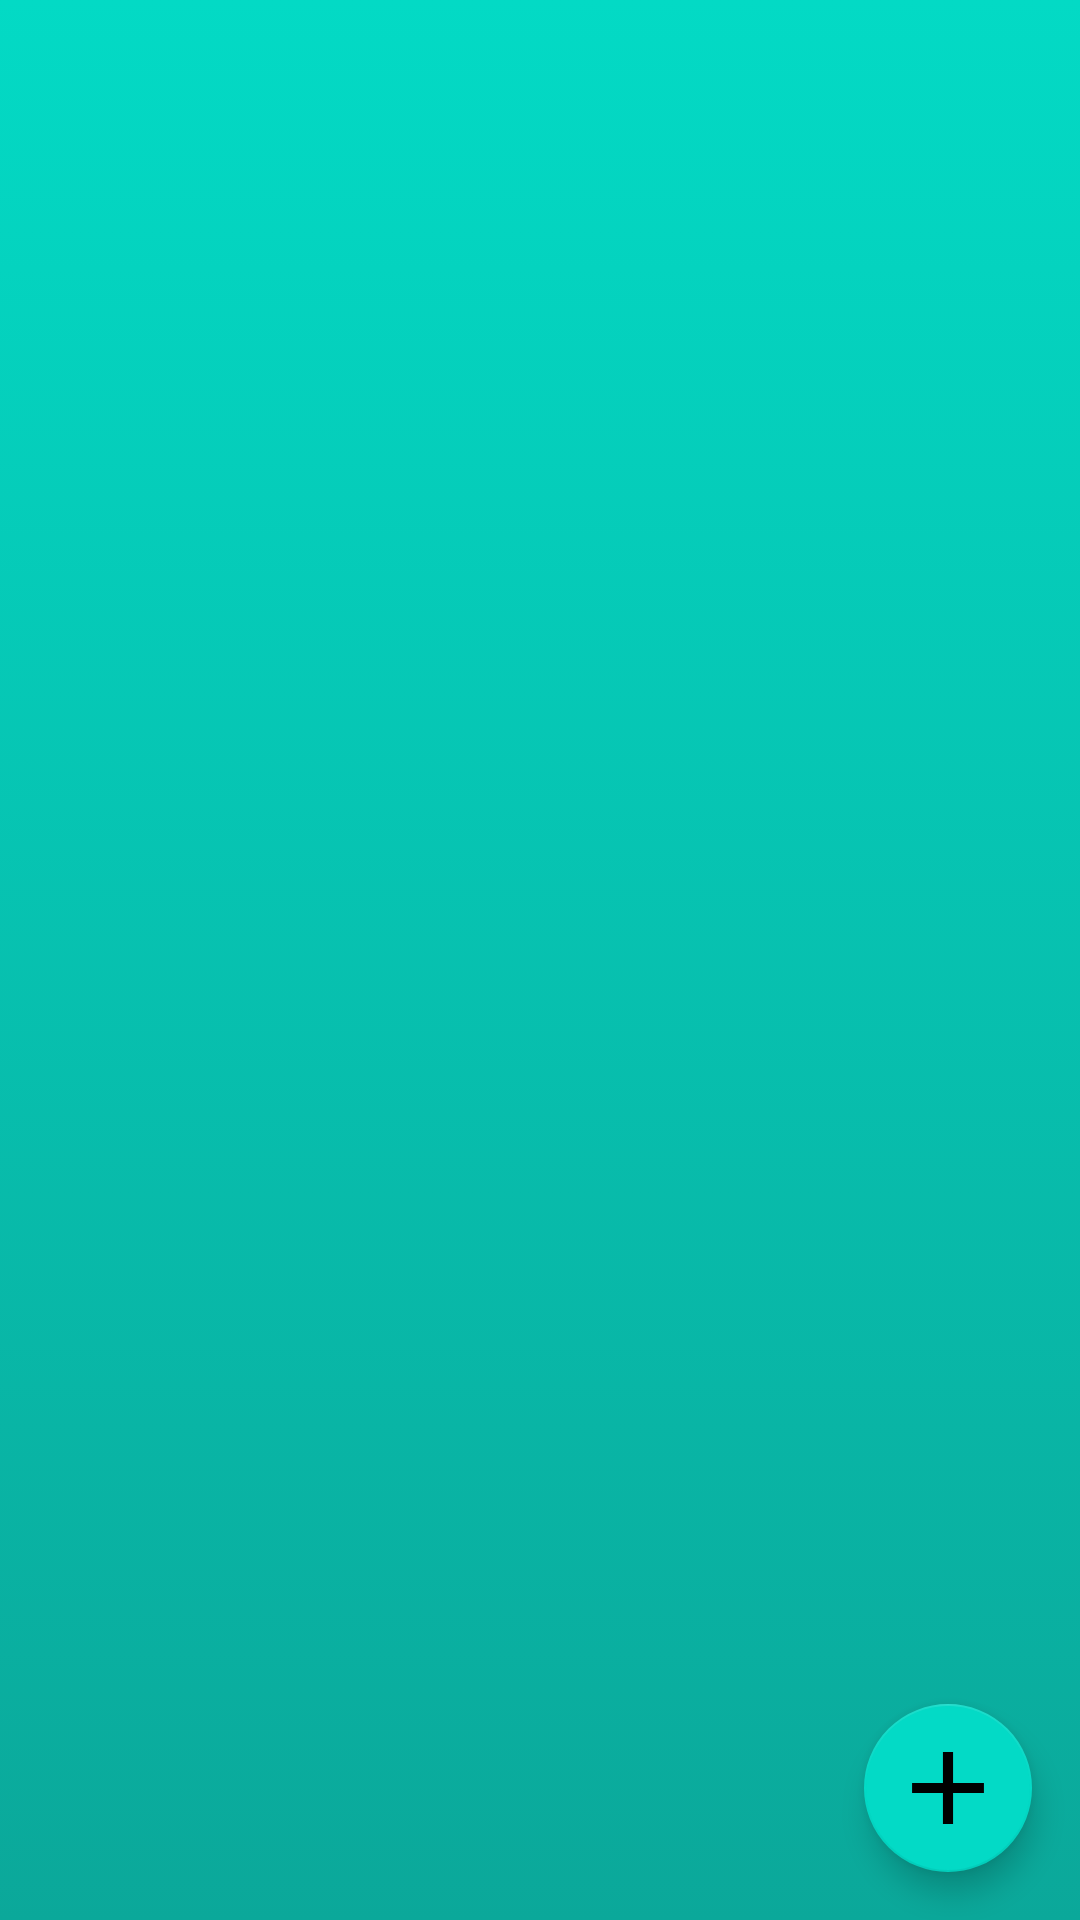

Where to tap for icons on this 1080 x 1920 app screen, as point (x, y):
plus: point (948, 1788)
